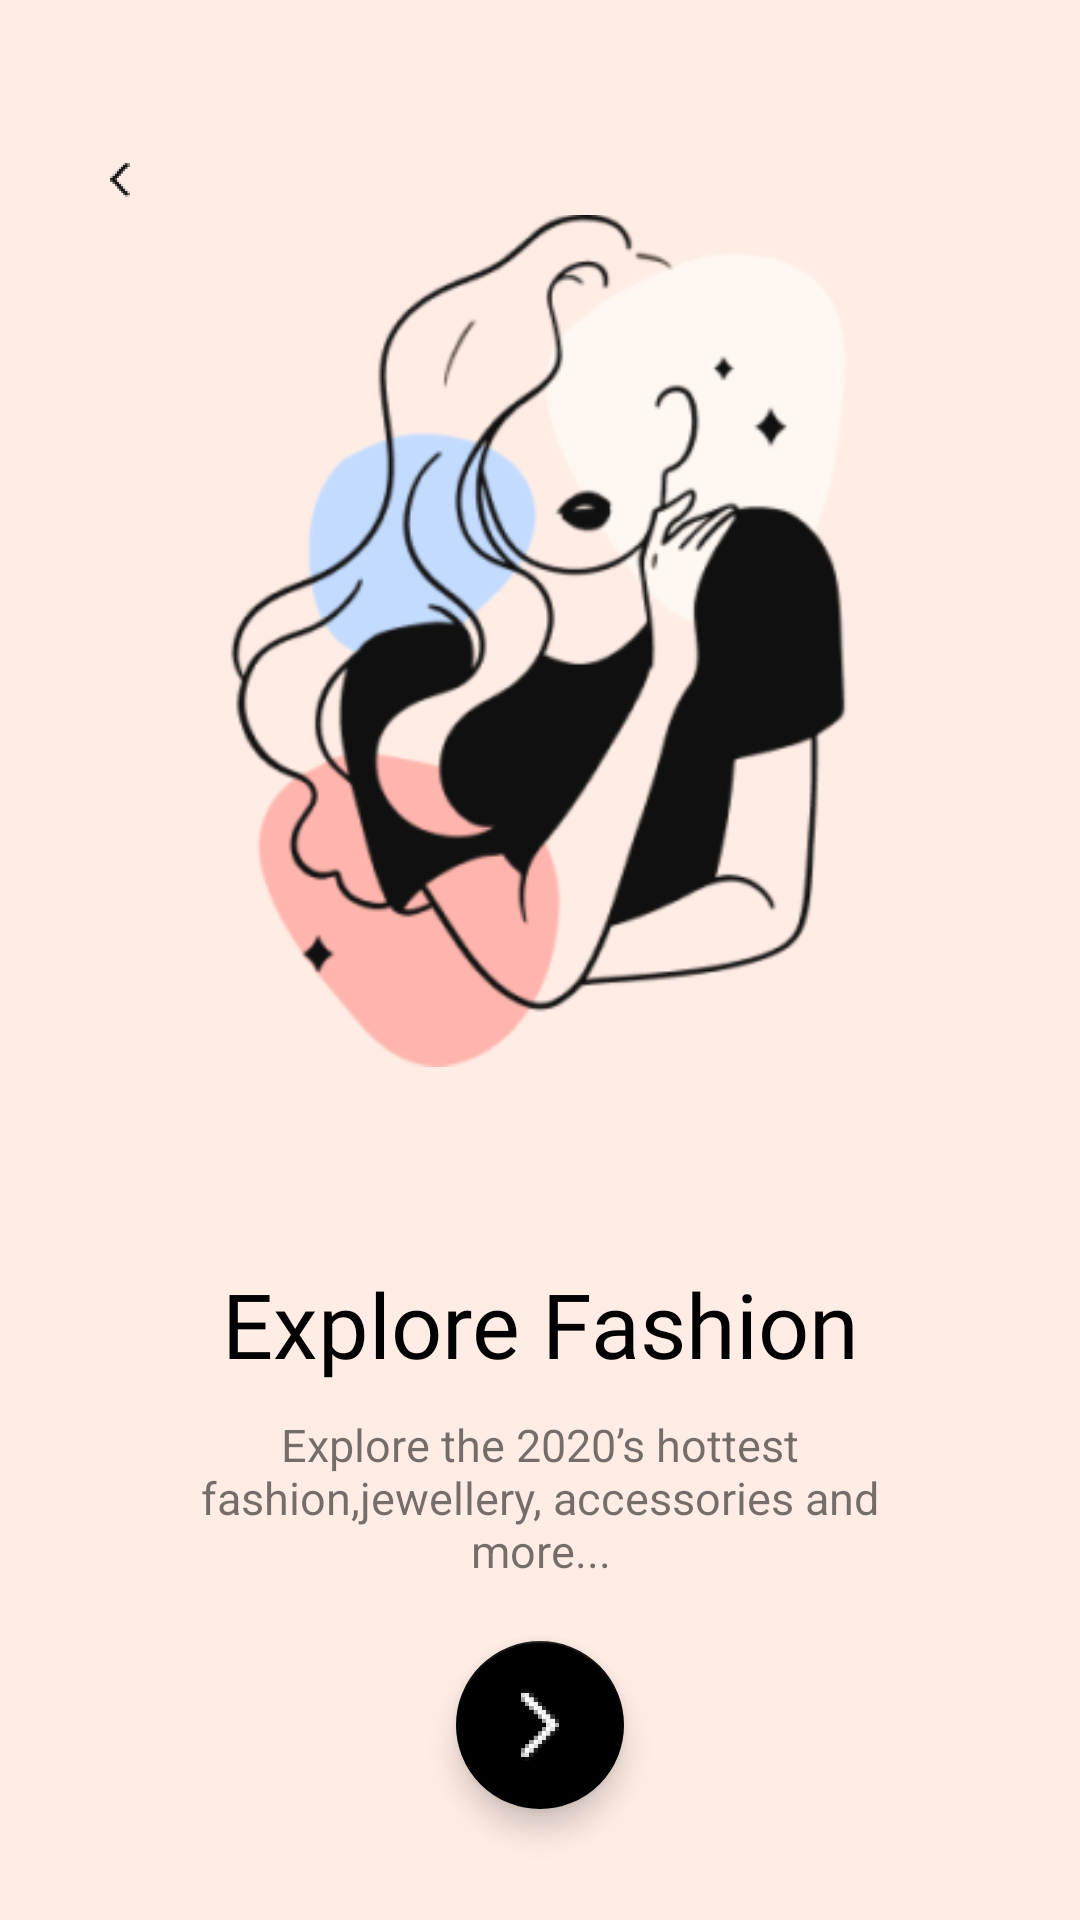

Icons on this 1080x1920 Android screen, each with its box as (left=x1, top=y1, right=x2, bottom=y2):
back: (left=110, top=163, right=130, bottom=197)
fab: (left=456, top=1641, right=624, bottom=1809)
